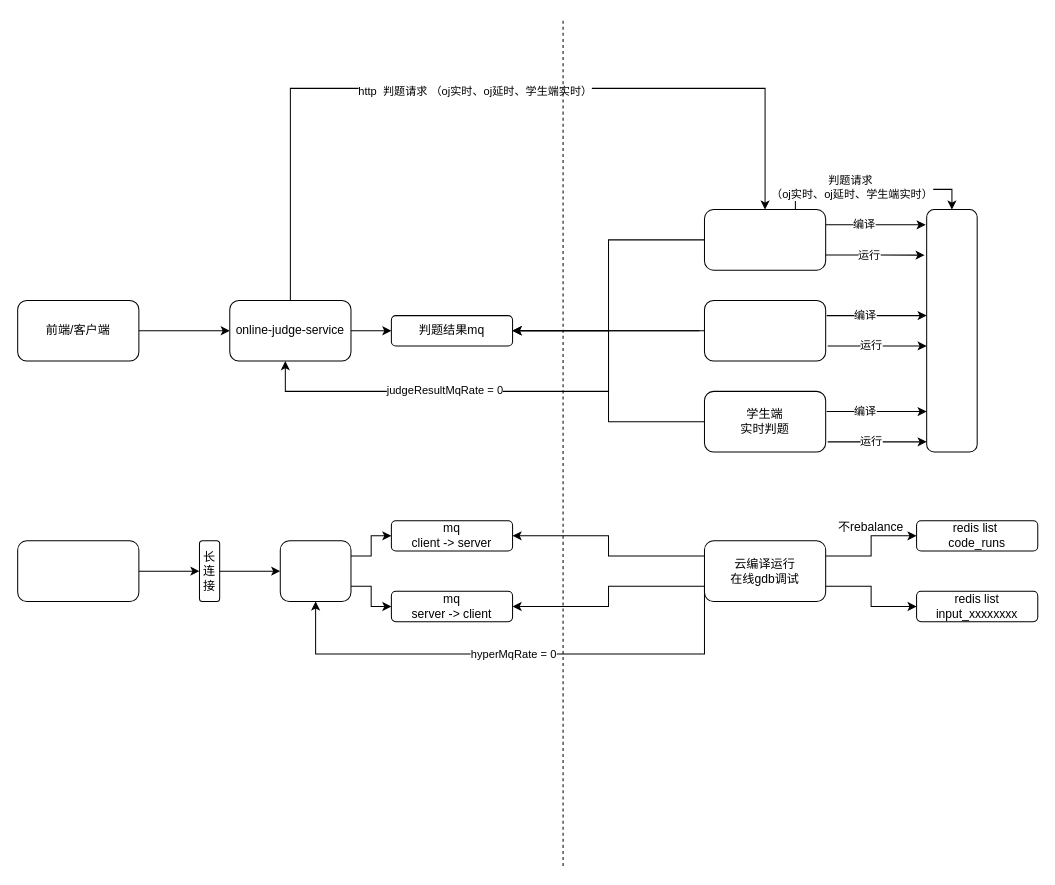
The diagram is 1055 pixels wide and 885 high, and some of its shapes have lost their labels. The shapes that lost their labels are listed below. From the top down, each one's centre as x and y in pixels, then its label:
At pixel 764 239: "oj 实时判题".
At pixel 764 330: "oj 延时判题".
At pixel 951 330: "mq".
At pixel 78 570: "u3d客户端".
At pixel 315 570: "长连接 业务".
